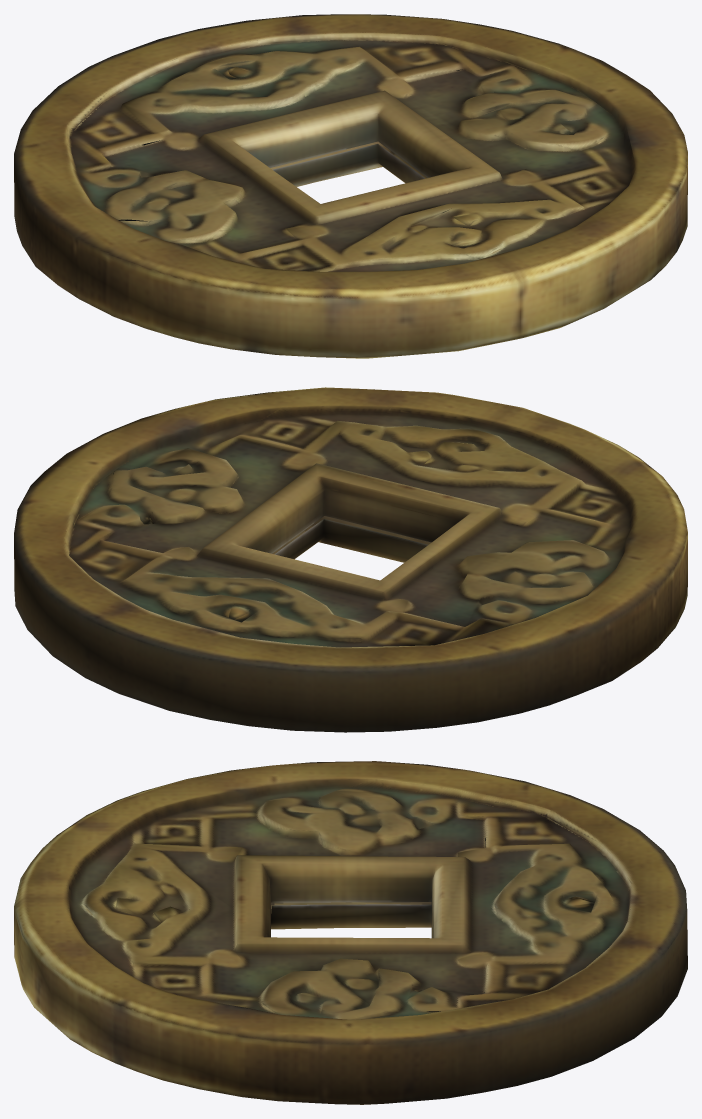
File: gold_coin.glb
3 views of the same model, one above another, from view 1: azimuth 30°, elevation 25°; view 2: azimuth 150°, elevation 25°; view 3: azimuth 270°, elevation 25° (orthographic).
Visible parts, largest first — view 1: MV_coin; view 2: MV_coin; view 3: MV_coin.
Part boxes in pixels (x1,y1,x2,y2): MV_coin: (14, 14, 687, 358); MV_coin: (14, 387, 687, 732); MV_coin: (14, 761, 687, 1104).
Size of the model in its own units: 0.126 by 0.0142 by 0.1265.
Materials: 1 (1 with a texture image).
